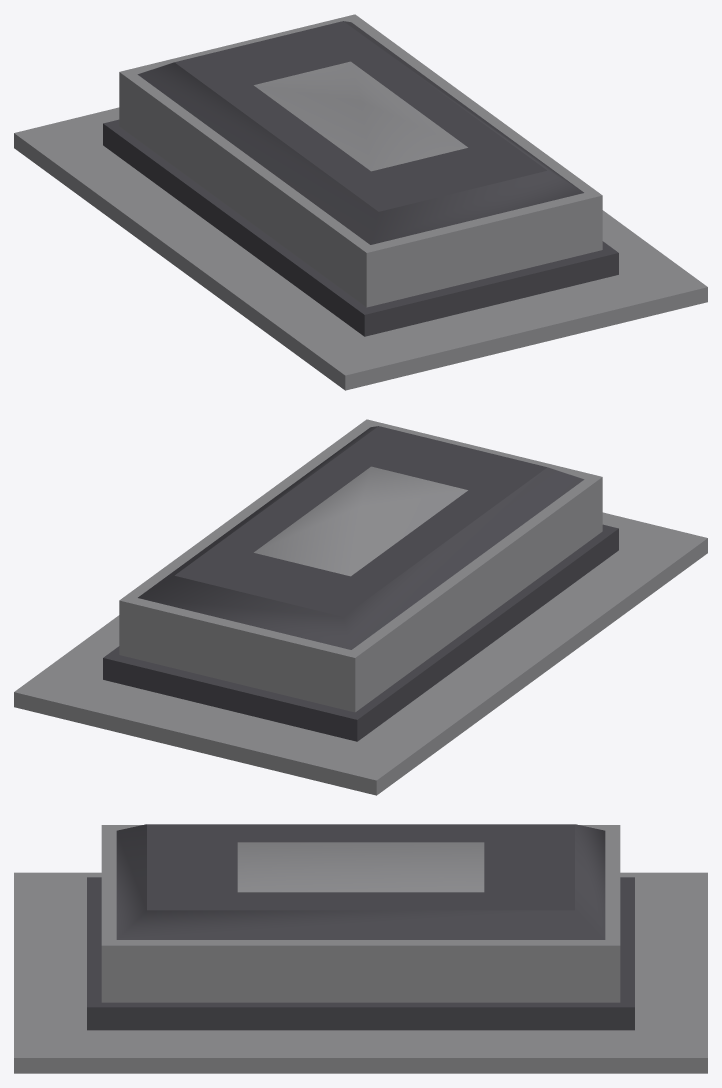
File: 6435a241-b1e8-4057-abe8-be7eac26869e.glb
The picture shows the model from 3 angles, top to bottom: view 1: azimuth 30°, elevation 25°; view 2: azimuth 150°, elevation 25°; view 3: azimuth 270°, elevation 25°; orthographic projection. The views are drawn at different scales.
Visible parts, largest first — view 1: Sarcophagus03; view 2: Sarcophagus03; view 3: Sarcophagus03.
Part boxes in pixels (x1=…): Sarcophagus03: x1=14, y1=14, x2=707, y2=390; Sarcophagus03: x1=14, y1=419, x2=707, y2=795; Sarcophagus03: x1=14, y1=824, x2=707, y2=1073.
Size of what is drawn, in the model's own units: 1.25 by 0.4088 by 1.99.
1 material, 1 textured.
